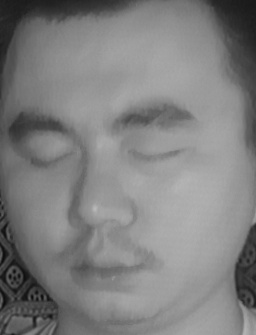blink: (128, 133, 185, 173), (26, 141, 77, 179)
mouth: (59, 237, 152, 294)
